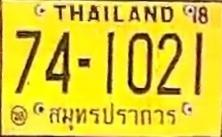0: (127, 32, 152, 94)
1: (194, 32, 202, 95), (106, 32, 114, 94)
2: (156, 32, 182, 96)
4: (44, 30, 70, 94)
7: (14, 29, 41, 94)
SPK: (44, 99, 179, 133)
